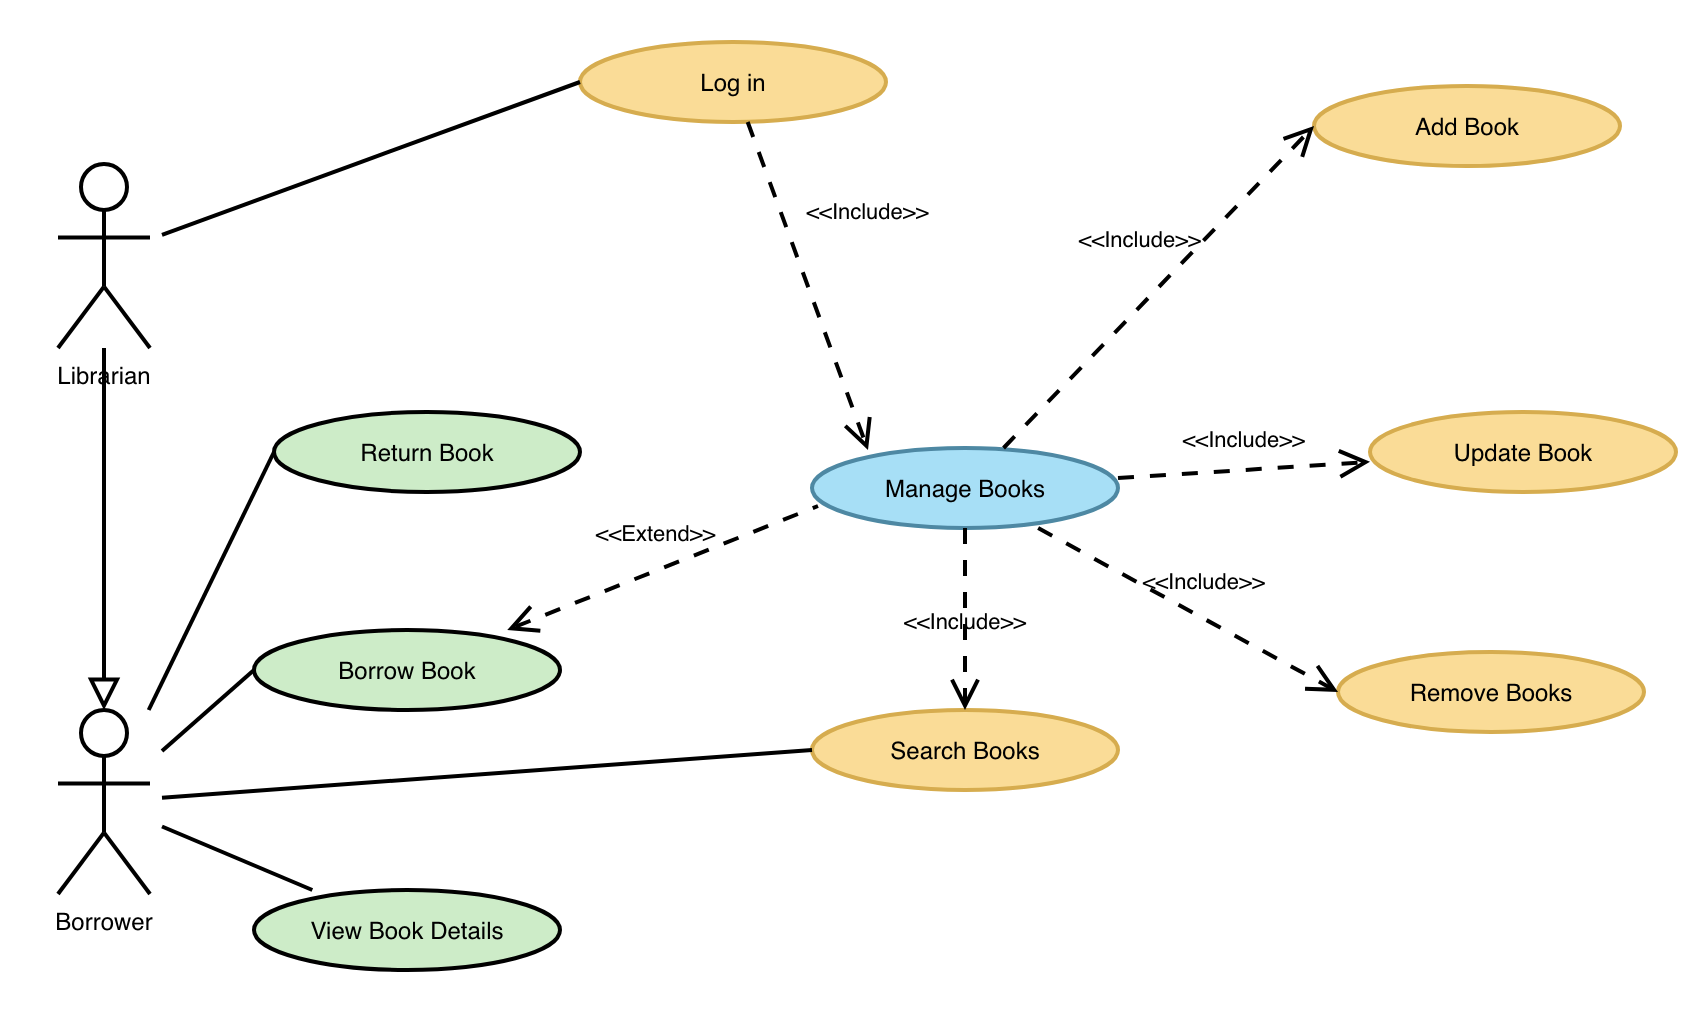actor: (50, 709, 160, 902), (50, 155, 154, 359)
association: (1000, 125, 1312, 444), (163, 77, 582, 241), (1039, 526, 1338, 695), (745, 122, 879, 452), (505, 501, 822, 633), (160, 741, 812, 803), (148, 451, 276, 712), (82, 347, 125, 708), (155, 819, 316, 894), (1121, 444, 1363, 487), (163, 670, 251, 752), (950, 531, 987, 709)
text: (1406, 670, 1584, 716), (878, 731, 1051, 770), (332, 647, 481, 689), (346, 431, 501, 471), (878, 471, 1051, 506), (310, 914, 508, 943), (1453, 435, 1610, 471), (1134, 561, 1270, 599), (898, 605, 1035, 639), (803, 192, 935, 226), (590, 516, 718, 549), (1072, 223, 1203, 253), (1178, 425, 1311, 454), (1413, 106, 1523, 142), (54, 359, 155, 393), (696, 59, 777, 100), (51, 908, 154, 939)
use_case: (268, 406, 586, 497), (250, 885, 562, 977), (254, 624, 563, 716), (806, 444, 1123, 533), (1367, 406, 1679, 497), (578, 37, 891, 127), (1311, 81, 1623, 171), (1332, 648, 1647, 737), (806, 706, 1122, 793)
